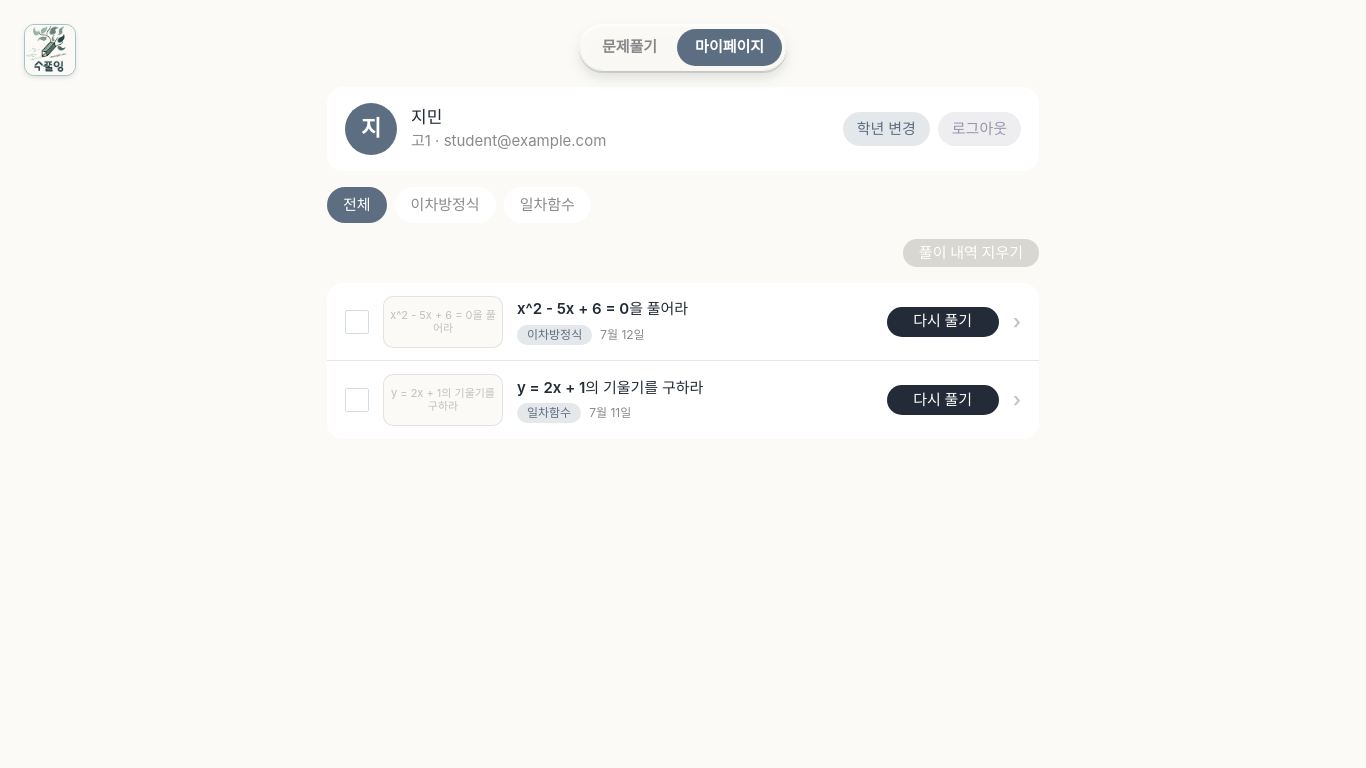
MyPage › History Row를 누르면 /mypage 안의 오버레이로 과거 풀이를 보여준다(라우트 이동 없음)
Expected: the text "x^2 - 5x + 6 = 0을 풀어라" is shown 2 times, [383,296,503,348]; [517,299,688,318]
Click the button "x^2 - 5x + 6 = 0을 풀어라 x^2 - 5x + 6 = 0을 풀어라 이차방정식 7월 12일" at (443, 322), box [383,296,873,347]
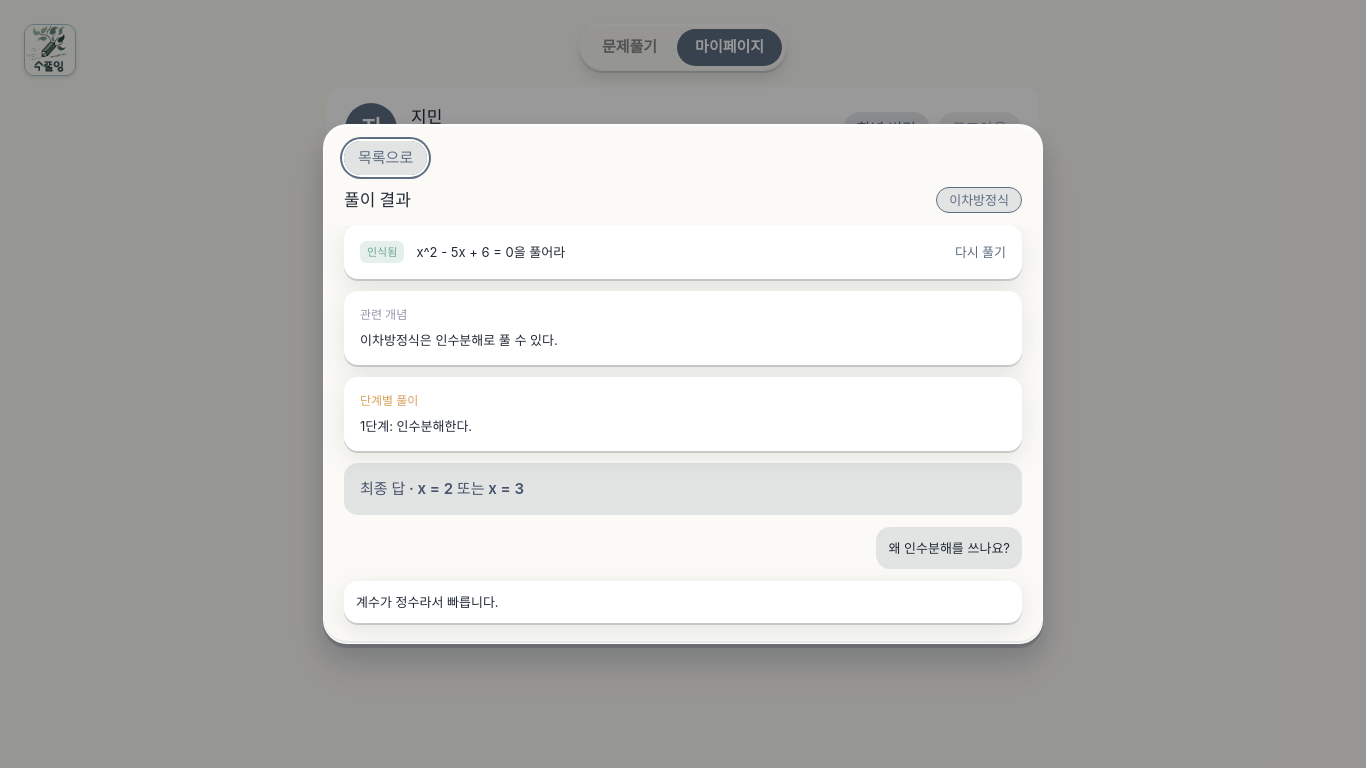
Now the dialog is shown, box [323,124,1043,644]
Now the heading "풀이 결과" is shown, box [344,189,411,211]
Now the text "관련 개념" is shown, box [360,307,407,322]
